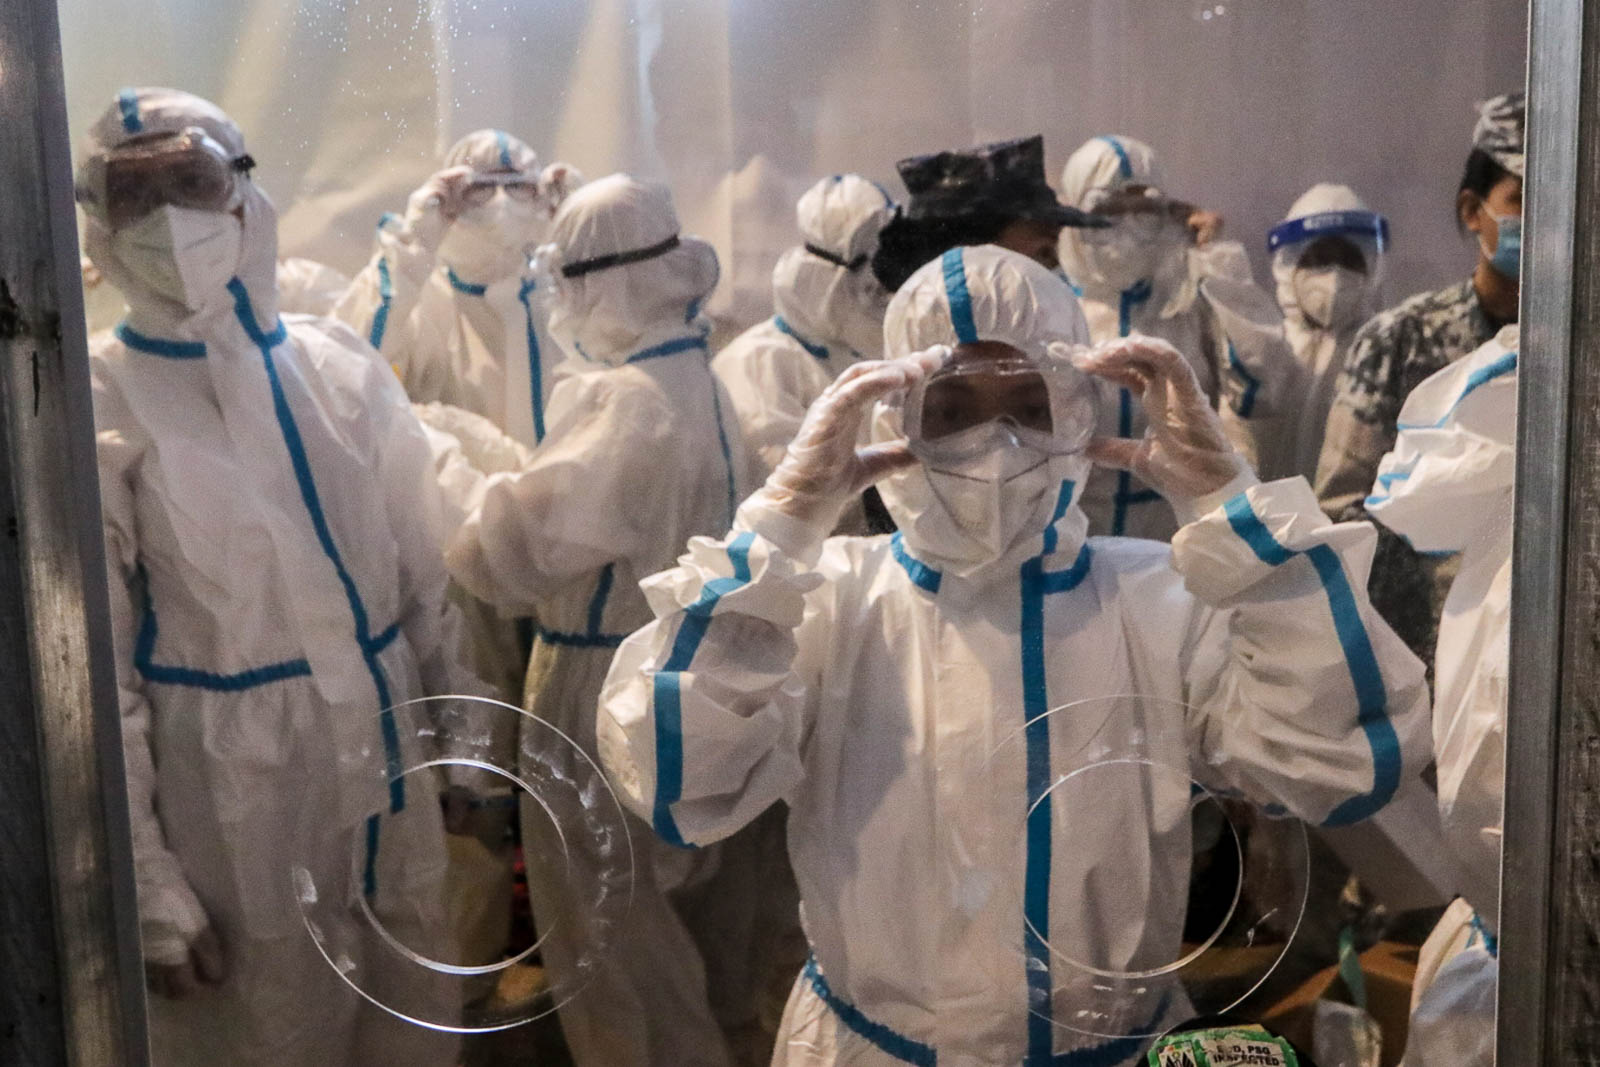Coverall: (604, 242, 1395, 1067), (69, 85, 454, 1067), (467, 185, 735, 1067), (1052, 139, 1246, 525)
Gloves: (1071, 322, 1255, 530), (743, 349, 912, 559)
Goggles: (910, 357, 1112, 463), (67, 143, 254, 227)
Mask: (913, 436, 1076, 569), (107, 202, 245, 324), (1292, 258, 1369, 327)
